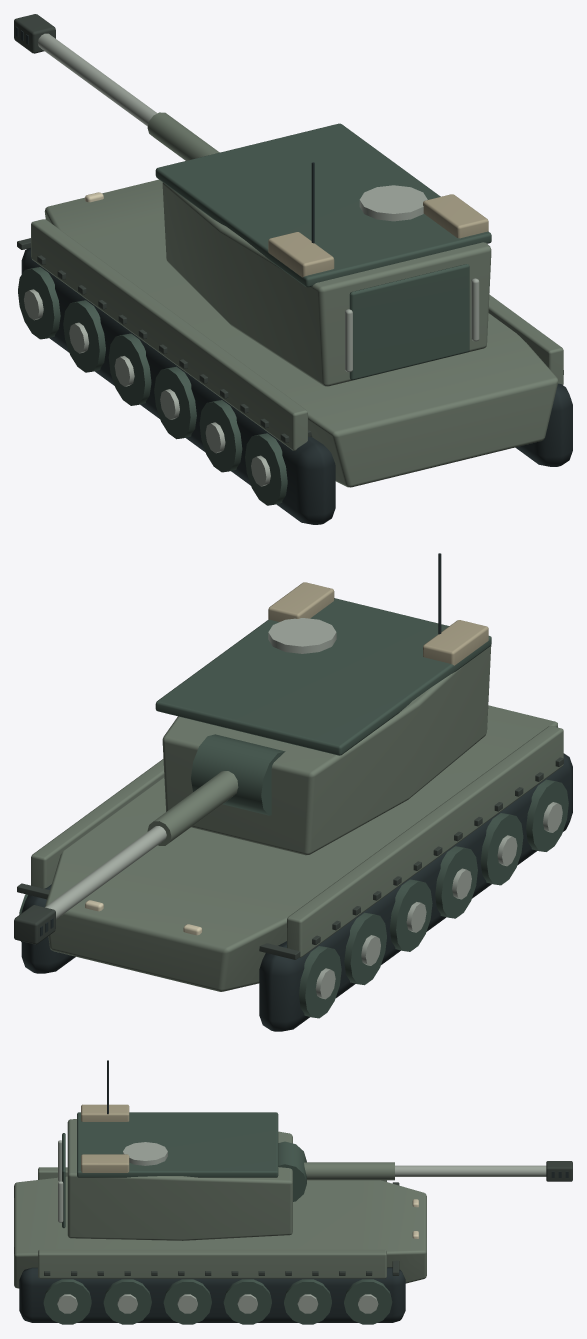
File: cas_self_propelled_artillery.glb
The picture shows the model from 3 angles, top to bottom: view 1: azimuth 30°, elevation 25°; view 2: azimuth 150°, elevation 25°; view 3: azimuth 270°, elevation 25°; orthographic projection. The views are drawn at different scales.
Visible parts, largest first — view 1: Hull, TurretVisual; view 2: Hull, TurretVisual; view 3: Hull, TurretVisual.
Boxes of the visible parts, x1,y1,x2,y2 form: Hull: (17,179,572,524); TurretVisual: (14,14,491,386); Hull: (17,705,572,1031); TurretVisual: (14,553,491,944); Hull: (14,1167,426,1324); TurretVisual: (58,1060,572,1240).
Size of the model in its own units: 4.22 by 4.16 by 10.42.
